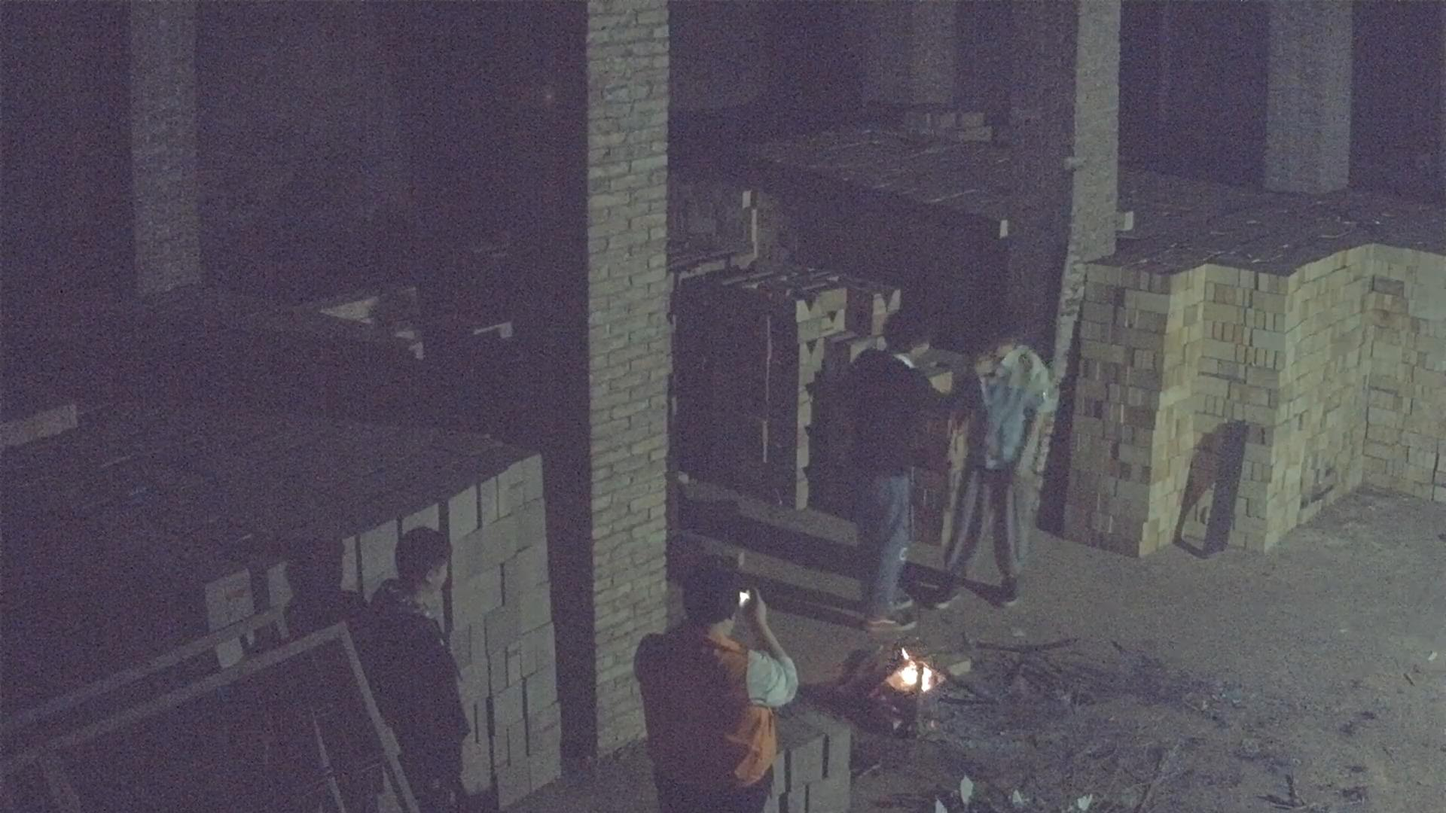fire: (883, 648, 942, 695)
